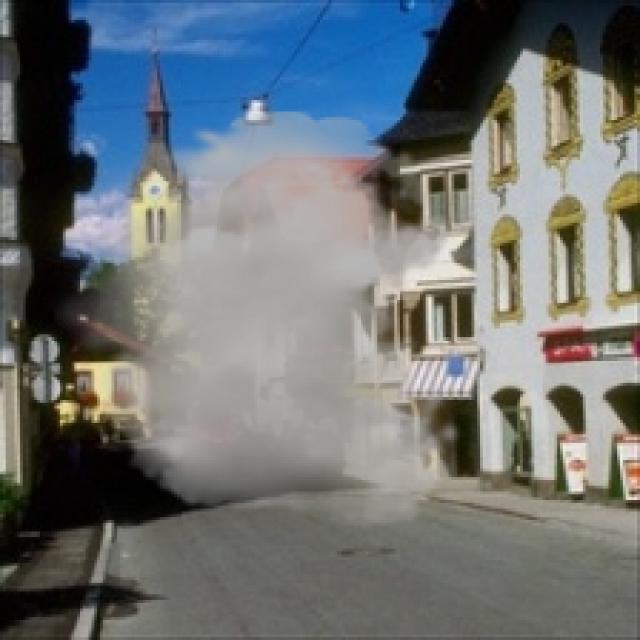Smoke: (46, 111, 463, 528)
